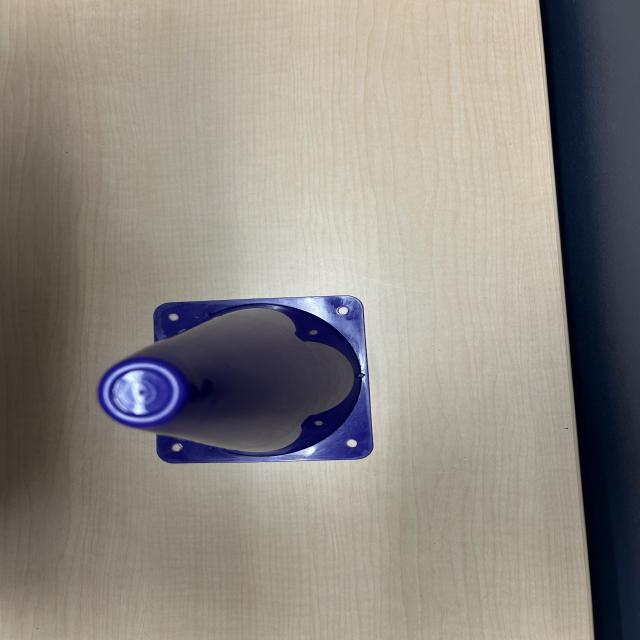purple cone: (93, 292, 383, 467)
